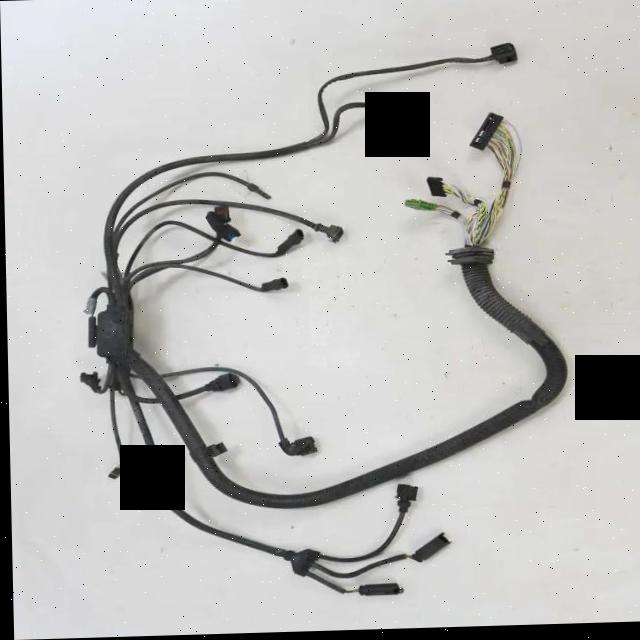connector: (489, 41, 520, 67), (255, 274, 290, 297)
